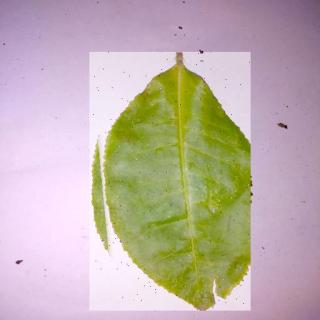Anthracnose: (91, 53, 252, 312)
